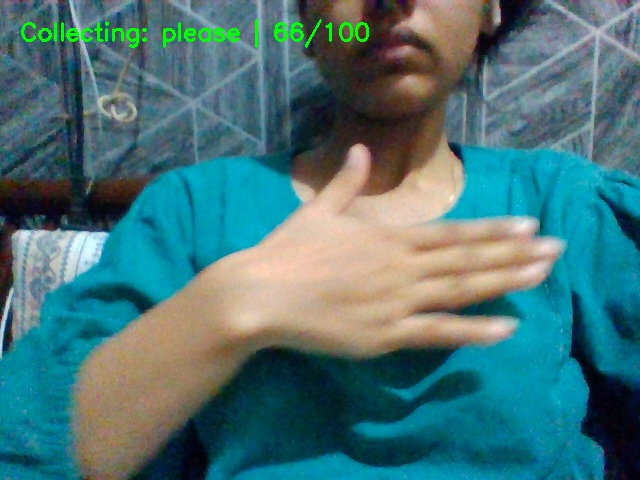please: (207, 131, 617, 368)
